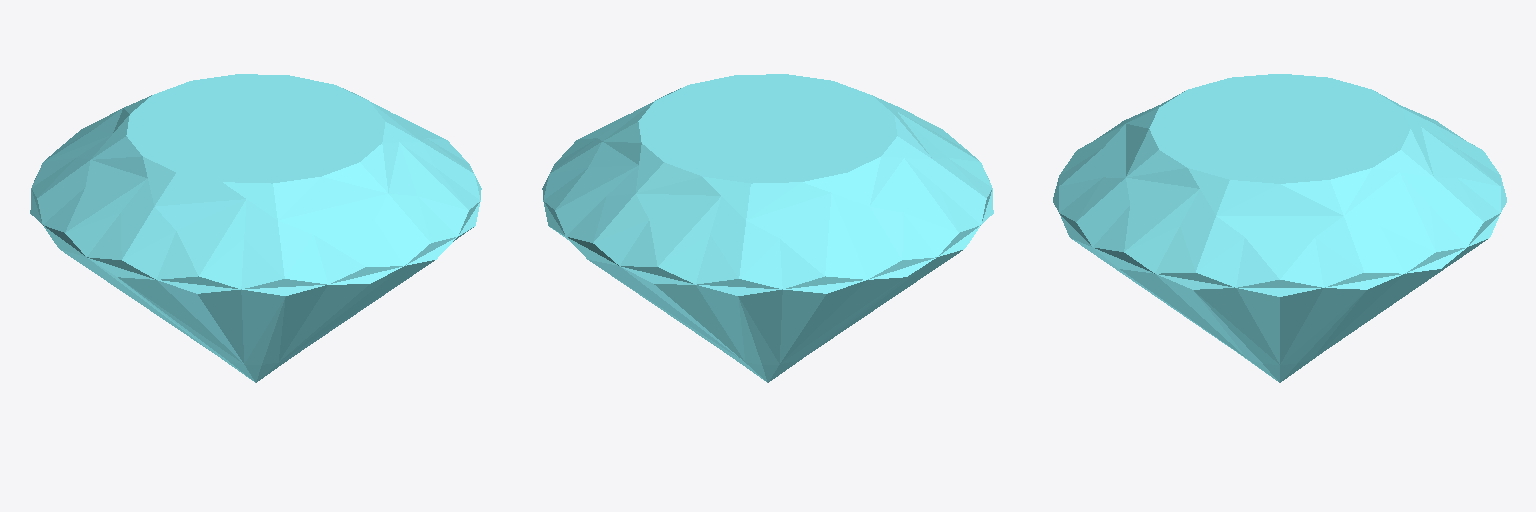
Rendered from diamond.obj.
3 views of the same model, side by side, from view 1: azimuth 30°, elevation 25°; view 2: azimuth 150°, elevation 25°; view 3: azimuth 270°, elevation 25° (orthographic).
Parts seen in each view (by area): view 1: pCone1; view 2: pCone1; view 3: pCone1.
Boxes of the visible parts, x1,y1,x2,y2 form: pCone1: [30, 74, 481, 382]; pCone1: [542, 74, 993, 382]; pCone1: [1053, 74, 1506, 382].
Bounding box in the file's own units: 0.6654 × 0.4105 × 0.6654.